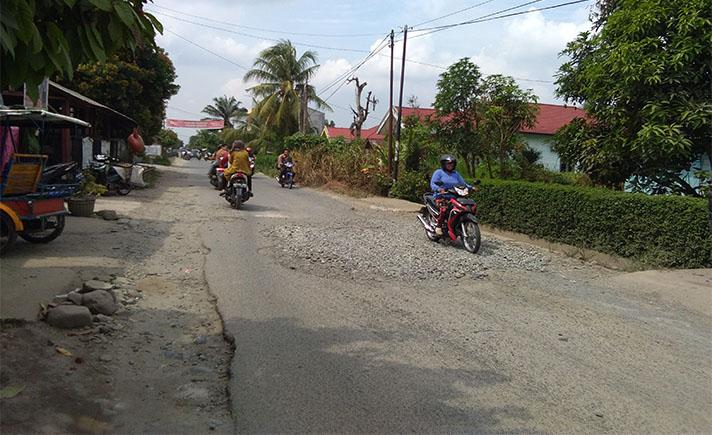Pothole: (0, 244, 256, 435), (264, 210, 501, 296)
